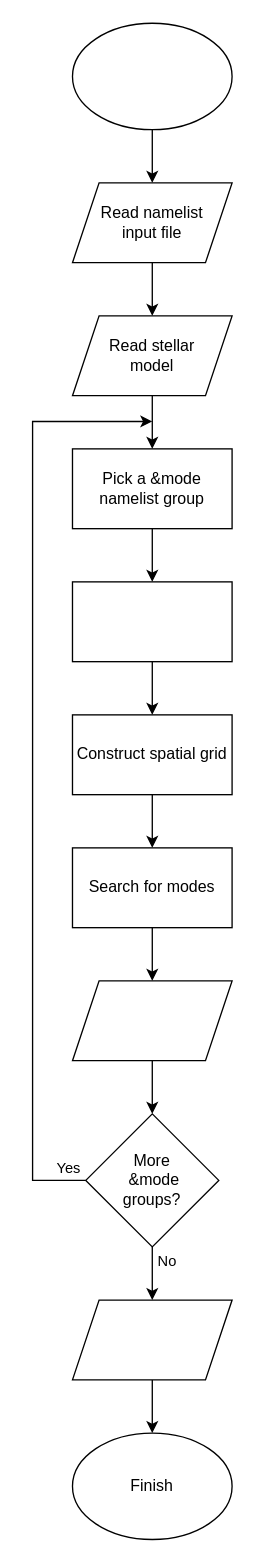
The diagram is 255 pixels wide and 1563 high, and some of its shapes have lost their labels. The shapes that lost their labels are listed below. From the top down, each one's box as (x1, y1, x2, y2) in pixels, then its label:
(71, 22, 232, 130): Start
(71, 581, 232, 662): Construct frequency grid
(71, 980, 232, 1061): Write detail file for each mode
(71, 1299, 232, 1380): Write summary file
